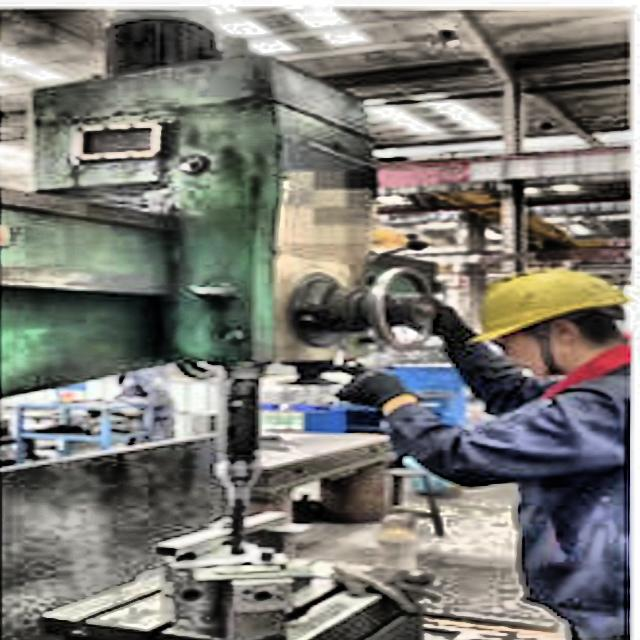gloved: (314, 352, 439, 417), (408, 297, 484, 353)
